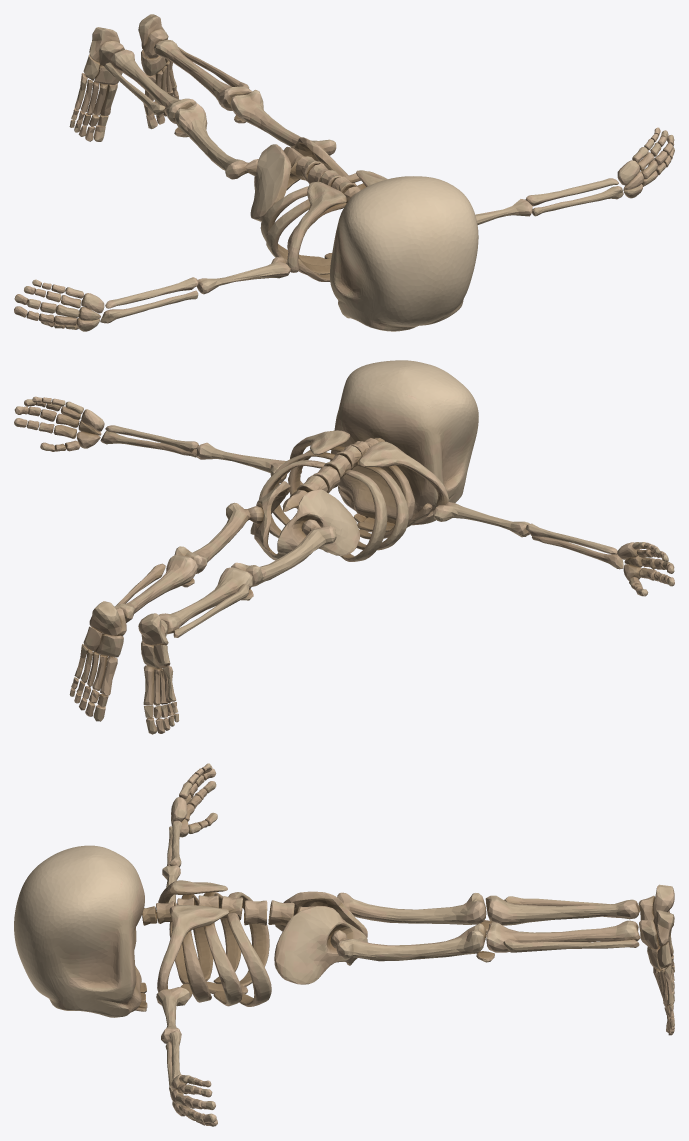
The model's file is DASK.glb.
3 views of the same model, one above another, from view 1: azimuth 30°, elevation 25°; view 2: azimuth 150°, elevation 25°; view 3: azimuth 270°, elevation 25° (orthographic). The views are drawn at different scales.
Size of the model in its own units: 0.0232 by 0.00525 by 0.0193.
2 materials, 1 textured.
